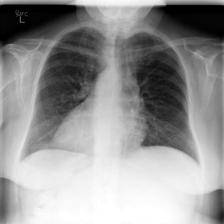normal: (19, 26, 202, 169)
